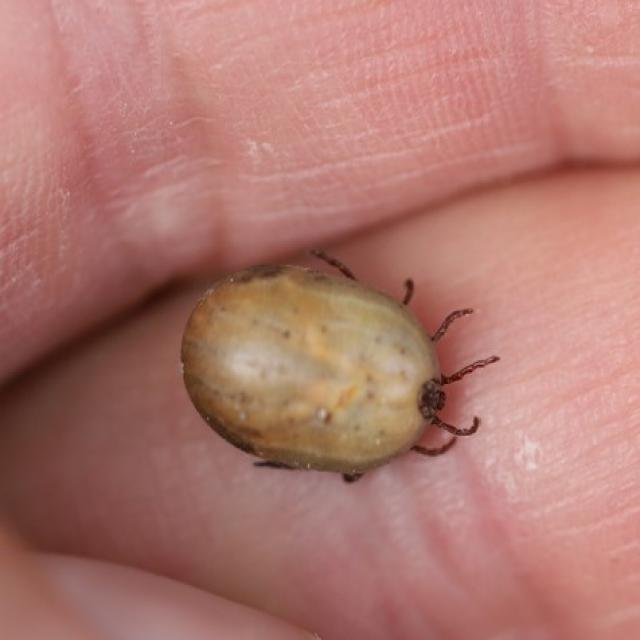Dermacentor Reticulatus-F-Fed: (182, 250, 502, 484)
